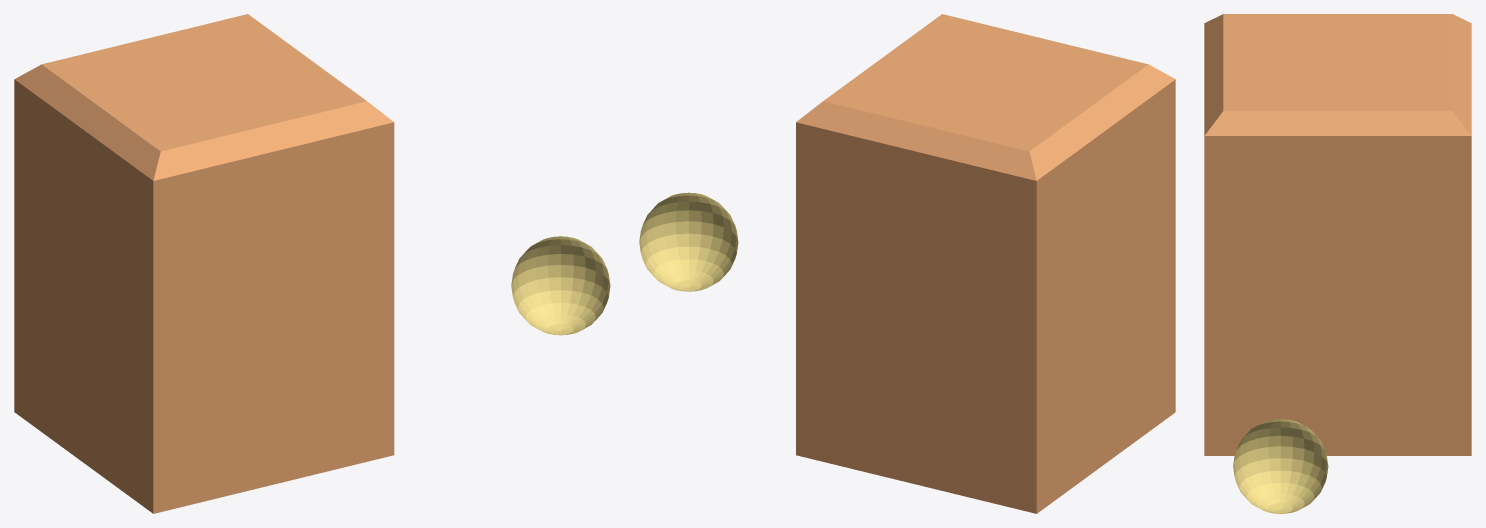
File: rpc_session.glb
3 views of the same model, side by side, from view 1: azimuth 30°, elevation 25°; view 2: azimuth 150°, elevation 25°; view 3: azimuth 270°, elevation 25° (orthographic). The views are drawn at different scales.
Visible parts, largest first — view 1: Box, Ball; view 2: Box, Ball; view 3: Box, Ball.
Part boxes in pixels (x1=…): Box: x1=14, y1=14, x2=394, y2=513; Ball: x1=511, y1=236, x2=610, y2=335; Box: x1=796, y1=14, x2=1175, y2=513; Ball: x1=639, y1=192, x2=738, y2=291; Box: x1=1204, y1=14, x2=1471, y2=455; Ball: x1=1233, y1=419, x2=1328, y2=513.
Size of what is drawn, in the model's own units: 2.85 by 1.95 by 1.4.
